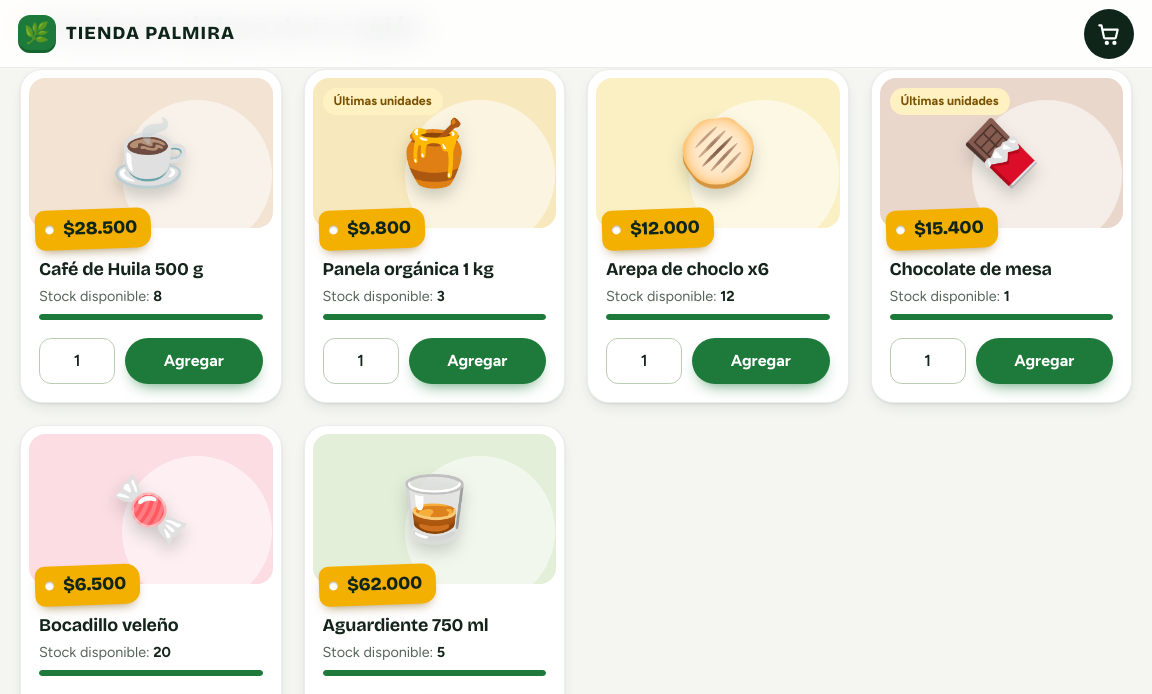
Test: Toasts › se cierran manualmente
(page scrolled)
Replace the text in the number field named "Cantidad de Café de Huila 500 g" with "999" at (77, 361), box [39,338,115,384]
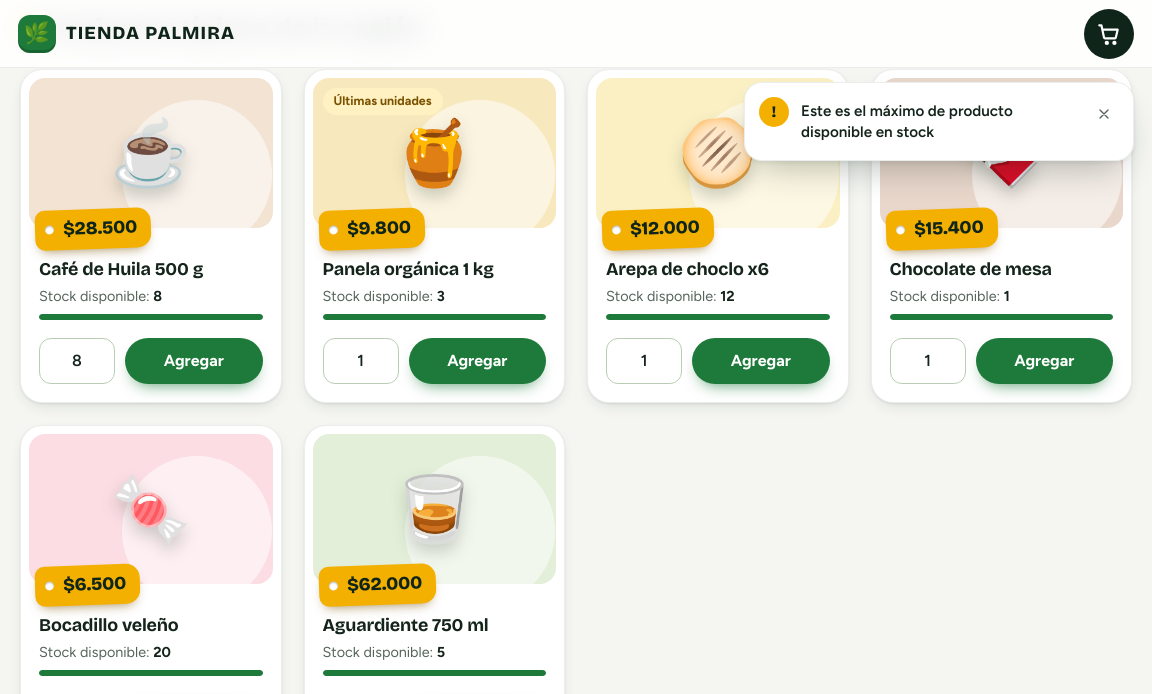
Click the button named "cerrar notificación" at (1104, 114), box [1087,97,1121,131]
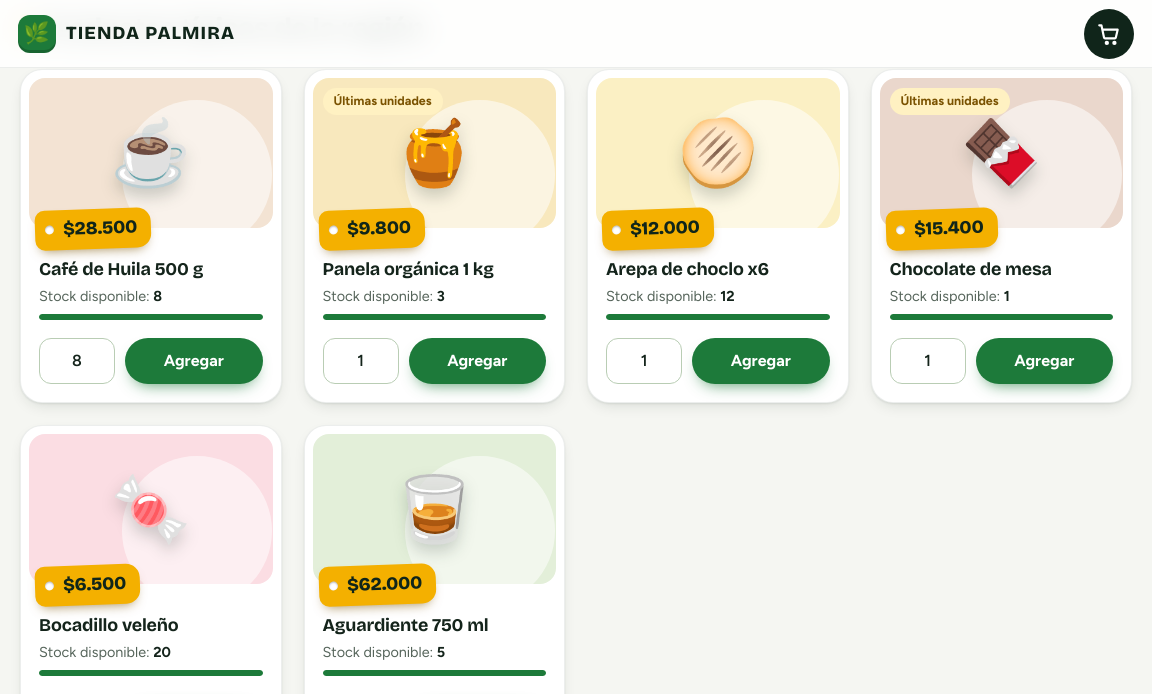
expect the text "Este es el máximo de producto disponible en stock" is gone: met
